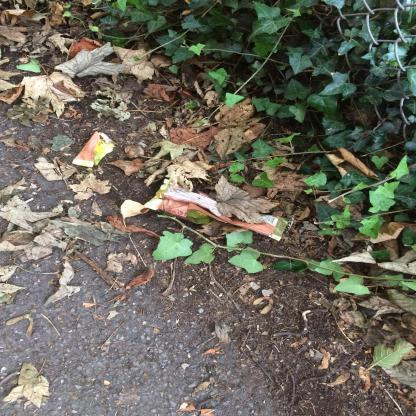plastik: (144, 180, 291, 243), (73, 132, 118, 170)
